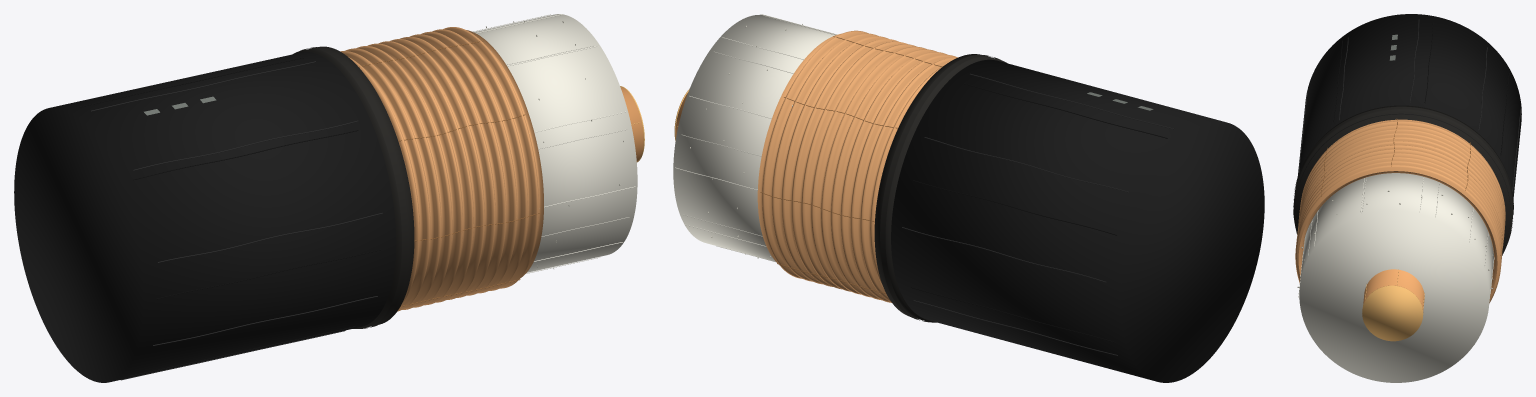
Rendered from rf-ldf2-macro.glb.
3 renders of one model, left to right at view 1: azimuth 30°, elevation 25°; view 2: azimuth 150°, elevation 25°; view 3: azimuth 270°, elevation 25°, orthographic. The views are drawn at different scales.
Parts seen in each view (by area): view 1: macro hardline jacket body, annular corrugated solid shield, macro foam dielectric exposed core, hardline jacket cut wall, rounded jacket cut lip, polished solid center conductor; view 2: macro hardline jacket body, annular corrugated solid shield, macro foam dielectric exposed core, hardline jacket cut wall, rounded jacket cut lip; view 3: macro foam dielectric exposed core, macro hardline jacket body, annular corrugated solid shield, hardline jacket cut wall, polished conductor cut face glow, polished solid center conductor, rounded jacket cut lip, inner jacket shadow bevel.
Boxes of the visible parts, x1,y1,x2,y2 form: macro hardline jacket body: (14, 52, 396, 382); annular corrugated solid shield: (340, 27, 543, 311); macro foam dielectric exposed core: (474, 14, 637, 272); hardline jacket cut wall: (293, 46, 413, 328); rounded jacket cut lip: (300, 47, 407, 328); polished solid center conductor: (620, 87, 643, 161); macro hardline jacket body: (891, 59, 1264, 382); annular corrugated solid shield: (757, 30, 957, 302); macro foam dielectric exposed core: (673, 14, 835, 261); hardline jacket cut wall: (874, 54, 1006, 322); rounded jacket cut lip: (880, 54, 1000, 322); macro foam dielectric exposed core: (1299, 173, 1493, 382); macro hardline jacket body: (1297, 14, 1521, 198); annular corrugated solid shield: (1295, 119, 1505, 303); hardline jacket cut wall: (1293, 105, 1513, 255); polished conductor cut face glow: (1362, 285, 1423, 341); polished solid center conductor: (1363, 269, 1424, 311); rounded jacket cut lip: (1293, 106, 1513, 240); inner jacket shadow bevel: (1295, 113, 1510, 250).
Bounding box in the file's own units: 6.51 × 2.98 × 3.09.
